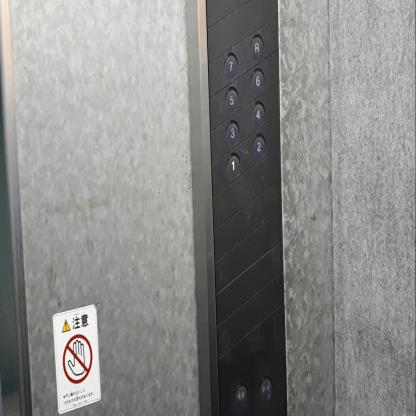1: (225, 150, 242, 183)
2: (251, 130, 266, 161)
3: (224, 118, 240, 147)
4: (250, 98, 266, 131)
5: (224, 84, 240, 116)
6: (251, 66, 265, 96)
7: (223, 50, 238, 81)
R: (249, 30, 266, 62)
close: (258, 374, 273, 404)
open: (233, 381, 249, 410)
